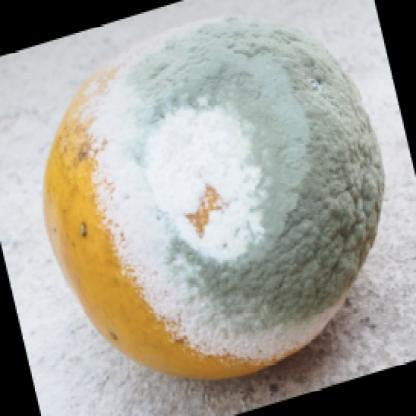rotten: (45, 24, 385, 380)
